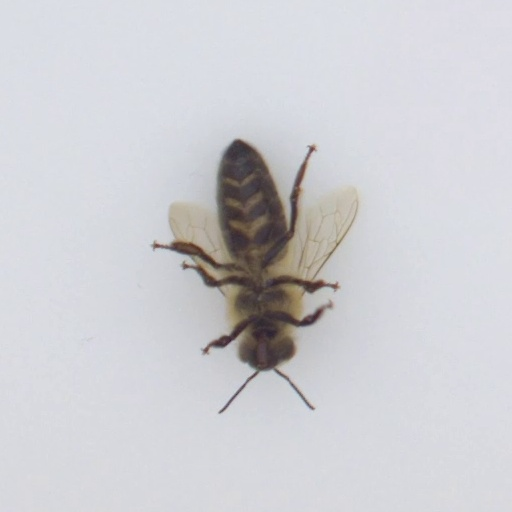Bee: (208, 135, 307, 371)
